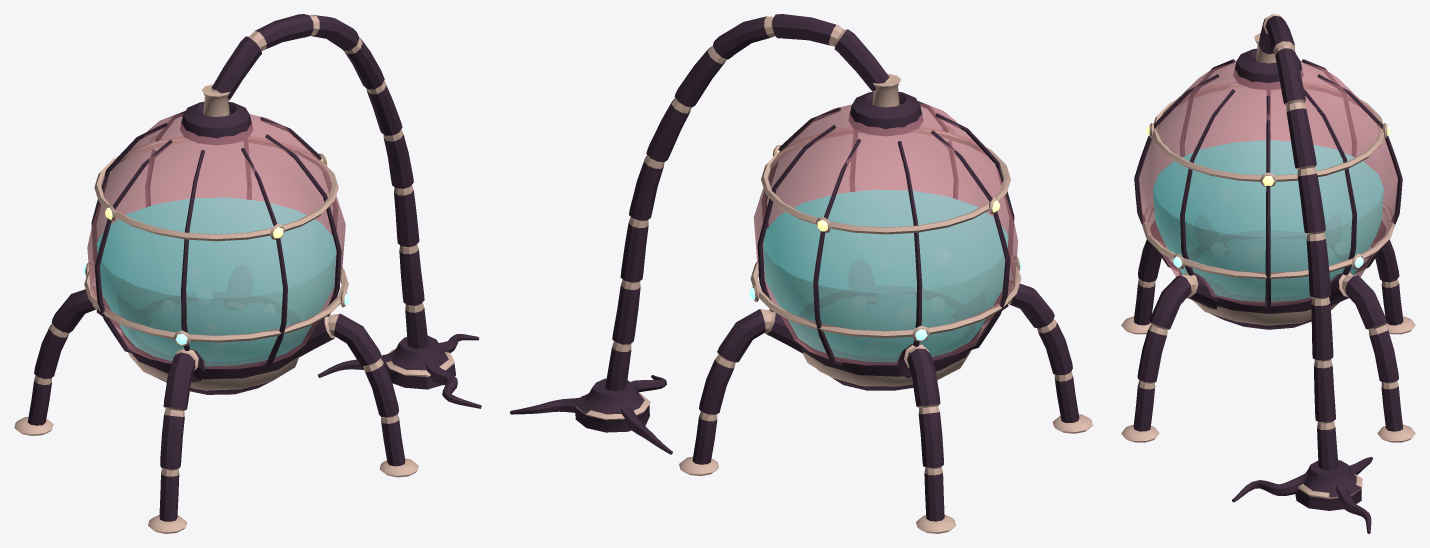
Rendered from deco_breathing_sac.fbx.
3 views of the same model, side by side, from view 1: azimuth 30°, elevation 25°; view 2: azimuth 150°, elevation 25°; view 3: azimuth 270°, elevation 25° (orthographic). The views are drawn at different scales.
Visible parts, largest first — view 1: BreathingSac_Sac, BreathingSac_Fluid, BreathingSac_Legs, BreathingSac_Tube, BreathingSac_Veins; view 2: BreathingSac_Sac, BreathingSac_Fluid, BreathingSac_Tube, BreathingSac_Legs, BreathingSac_Veins; view 3: BreathingSac_Sac, BreathingSac_Fluid, BreathingSac_Legs, BreathingSac_Tube, BreathingSac_Veins.
Part boxes in pixels (x1=…): BreathingSac_Sac: x1=87, y1=84, x2=345, y2=369; BreathingSac_Fluid: x1=97, y1=198, x2=335, y2=365; BreathingSac_Legs: x1=14, y1=287, x2=418, y2=533; BreathingSac_Tube: x1=211, y1=14, x2=481, y2=408; BreathingSac_Veins: x1=83, y1=111, x2=349, y2=369; BreathingSac_Sac: x1=753, y1=74, x2=1018, y2=365; BreathingSac_Fluid: x1=763, y1=190, x2=1008, y2=361; BreathingSac_Tube: x1=510, y1=14, x2=890, y2=454; BreathingSac_Legs: x1=679, y1=280, x2=1092, y2=533; BreathingSac_Veins: x1=749, y1=101, x2=1022, y2=365; BreathingSac_Sac: x1=1138, y1=33, x2=1398, y2=306; BreathingSac_Fluid: x1=1153, y1=140, x2=1383, y2=301; BreathingSac_Legs: x1=1121, y1=221, x2=1415, y2=442; BreathingSac_Tube: x1=1232, y1=14, x2=1372, y2=533; BreathingSac_Veins: x1=1134, y1=59, x2=1402, y2=309.
Bounding box in the file's own units: 308 × 272 × 184.
